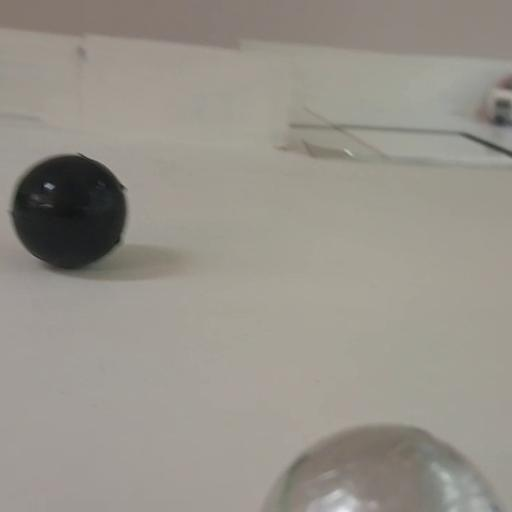alive: (262, 424, 512, 512)
dead: (8, 151, 130, 273)
